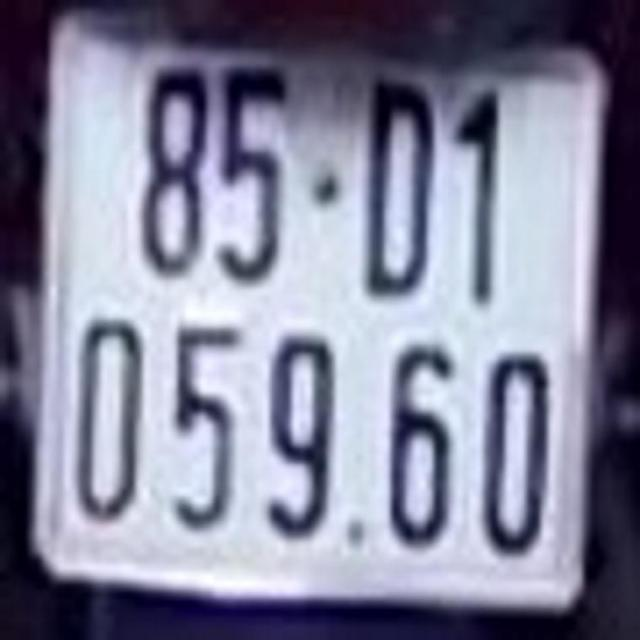0: (81, 316, 135, 522), (491, 351, 544, 554)
1: (459, 84, 496, 308)
5: (218, 65, 289, 282), (174, 319, 241, 524)
6: (397, 337, 446, 554)
8: (148, 63, 206, 275)
9: (264, 331, 331, 535)
D: (370, 74, 433, 295)
